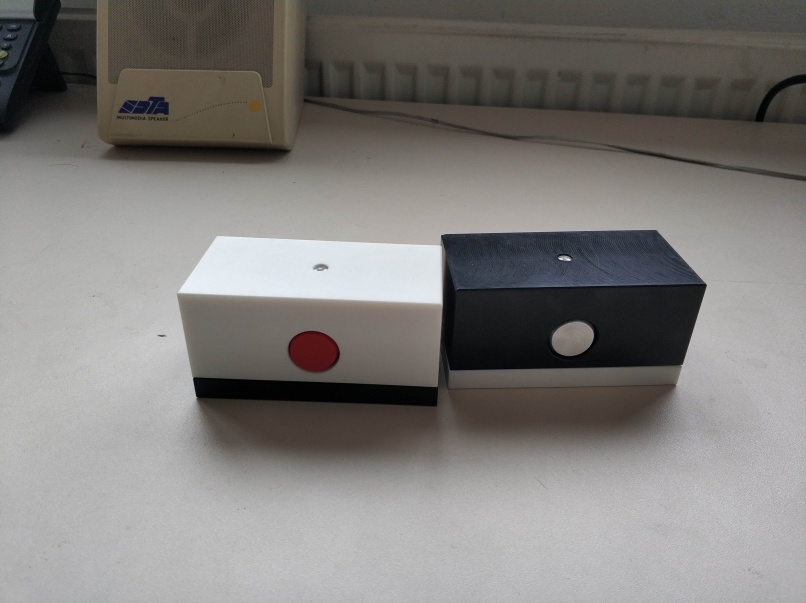black+white+red: (176, 234, 444, 408)
white+black+silver: (442, 228, 708, 391)
